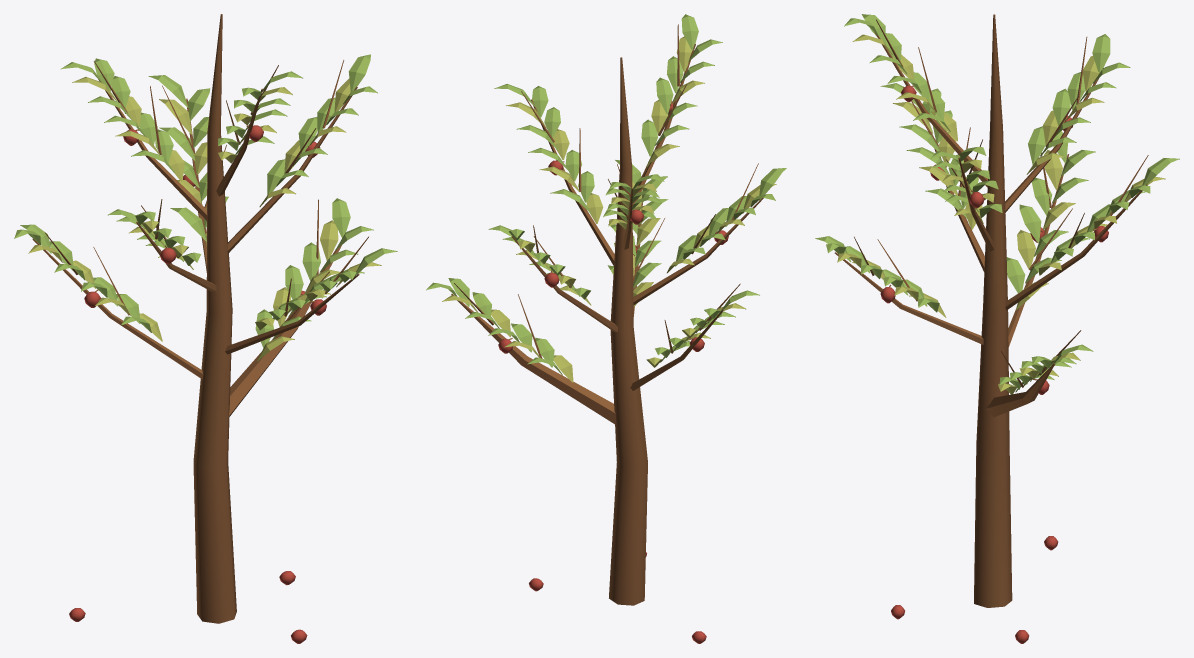
The model's file is crop_apple_tree_overripe.glb.
The picture shows the model from 3 angles, left to right: view 1: azimuth 30°, elevation 25°; view 2: azimuth 150°, elevation 25°; view 3: azimuth 270°, elevation 25°; orthographic projection. The views are drawn at different scales.
Parts seen in each view (by area): view 1: apple_b_0, apple_leaf_0_1, apple_leaf_0_0, apple_fruit_0_0; view 2: apple_b_0, apple_leaf_0_1, apple_leaf_0_0, apple_fruit_0_0; view 3: apple_b_0, apple_leaf_0_1, apple_leaf_0_0, apple_fruit_0_0.
Part boxes in pixels (bbox=[...]): apple_b_0: bbox=[32, 14, 368, 623]; apple_leaf_0_1: bbox=[14, 54, 397, 347]; apple_leaf_0_0: bbox=[28, 77, 381, 361]; apple_fruit_0_0: bbox=[69, 125, 326, 643]; apple_b_0: bbox=[451, 24, 763, 605]; apple_leaf_0_1: bbox=[426, 14, 786, 375]; apple_leaf_0_0: bbox=[442, 36, 776, 382]; apple_fruit_0_0: bbox=[498, 101, 728, 643]; apple_b_0: bbox=[834, 14, 1148, 607]; apple_leaf_0_1: bbox=[815, 14, 1179, 392]; apple_leaf_0_0: bbox=[837, 34, 1165, 394]; apple_fruit_0_0: bbox=[880, 85, 1108, 643].
Size of the model in its own units: 1.97 by 3.2 by 1.8.
